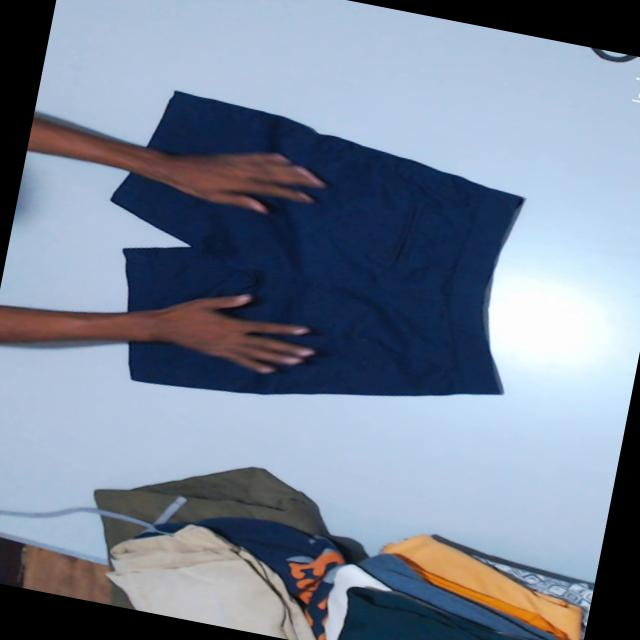new-garment: (112, 92, 522, 395)
